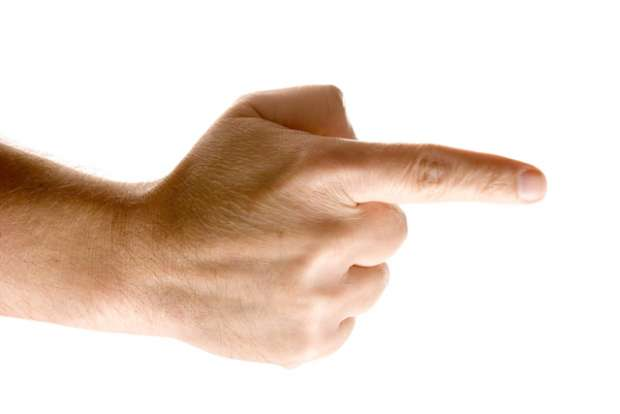finger: (307, 138, 551, 204)
